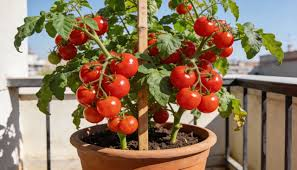milho: (49, 13, 251, 156)
